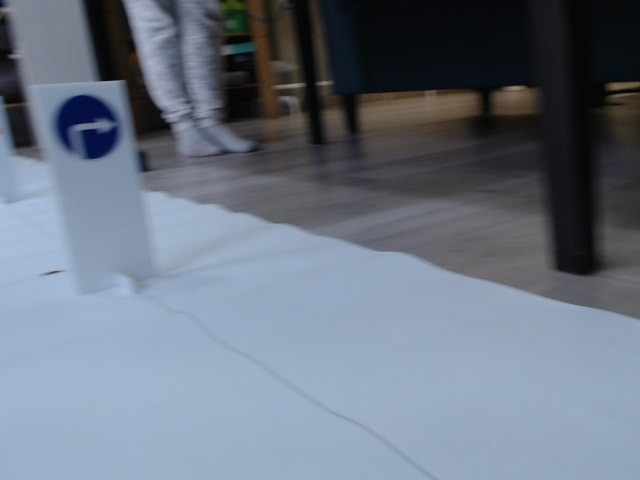Right: (54, 94, 120, 162)
